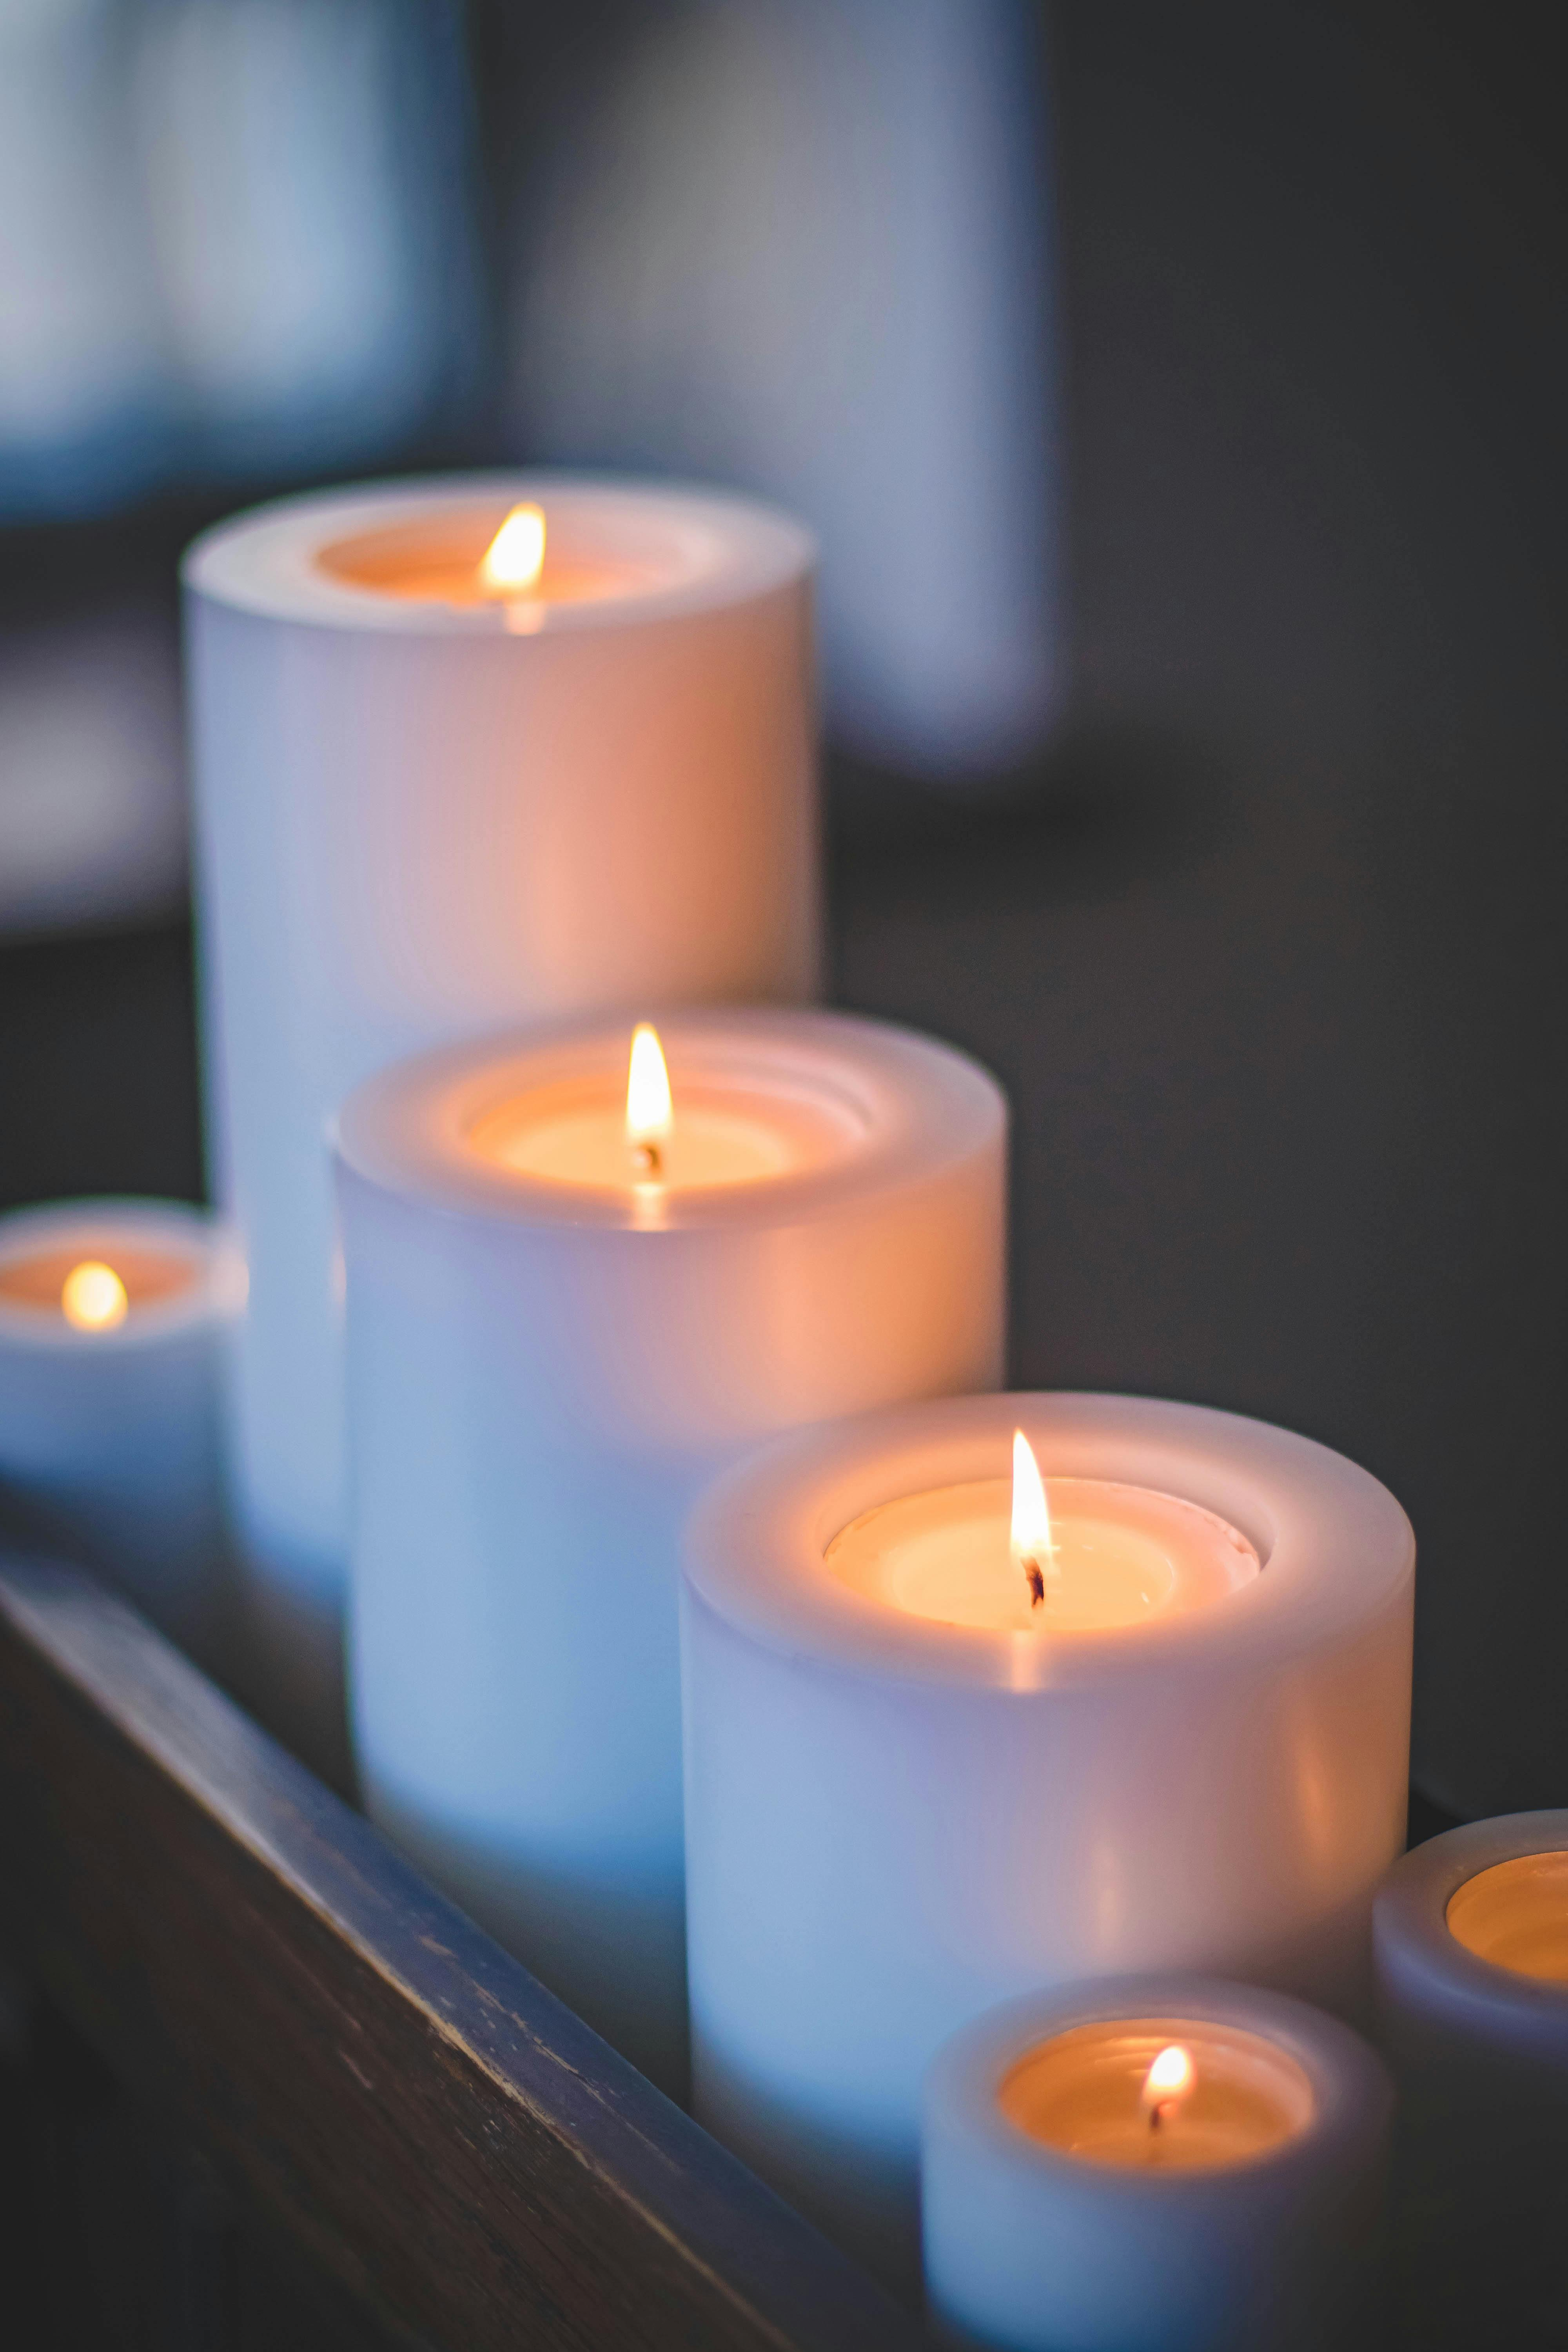Fire: (957, 1409, 1087, 1598), (445, 474, 579, 619), (597, 1017, 707, 1167), (1118, 2023, 1244, 2140), (56, 1251, 152, 1372)
